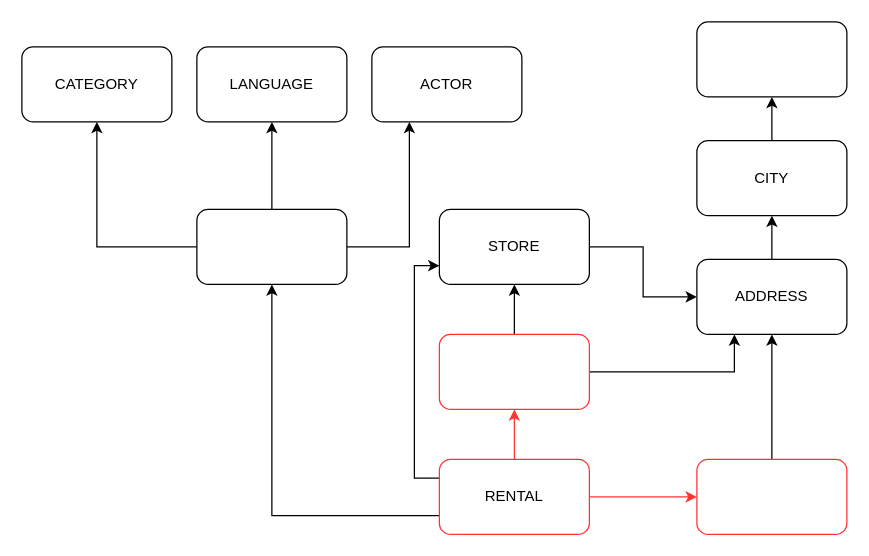
The diagram is 869 pixels wide and 556 high, and some of its shapes have lost their labels. Here are the shapes that lost their labels. From the top down, the box of each, then its label:
(696, 21, 847, 97): COUNTRY
(196, 208, 347, 284): FILM
(438, 333, 589, 409): STAFF
(696, 458, 847, 534): CUSTOMER
